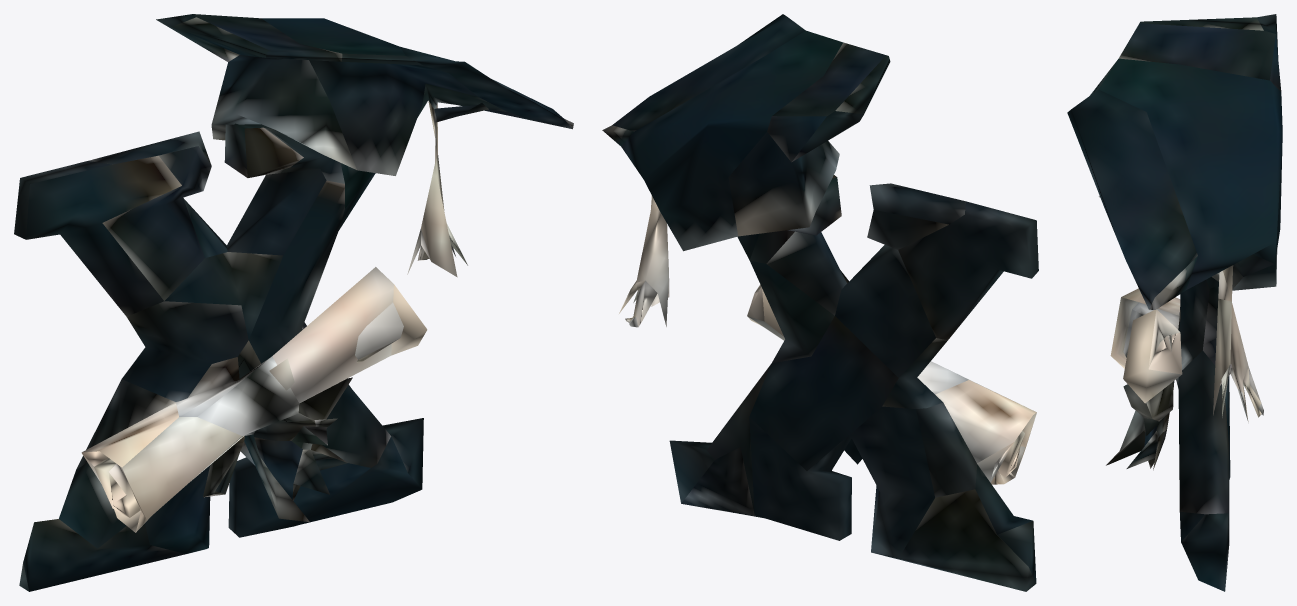
3 views of the same model, side by side, from view 1: azimuth 30°, elevation 25°; view 2: azimuth 150°, elevation 25°; view 3: azimuth 270°, elevation 25° (orthographic). The views are drawn at different scales.
Visible parts, largest first — view 1: Graduation-X; view 2: Graduation-X; view 3: Graduation-X.
Part boxes in pixels (left/top/right/bottom): Graduation-X: left=14, top=14, right=573, bottom=591; Graduation-X: left=602, top=14, right=1038, bottom=591; Graduation-X: left=1067, top=14, right=1282, bottom=591.
Bounding box in the file's own units: 0.317 × 0.3015 × 0.121.
Materials: 1 (1 with a texture image).
